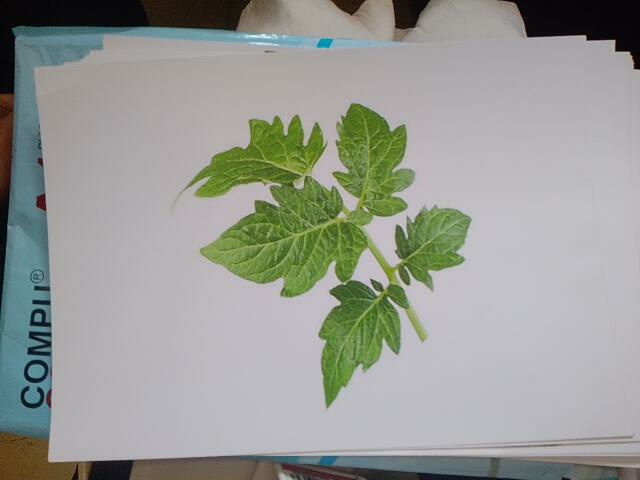Grape_Blight_Leaf: (240, 79, 536, 356)
